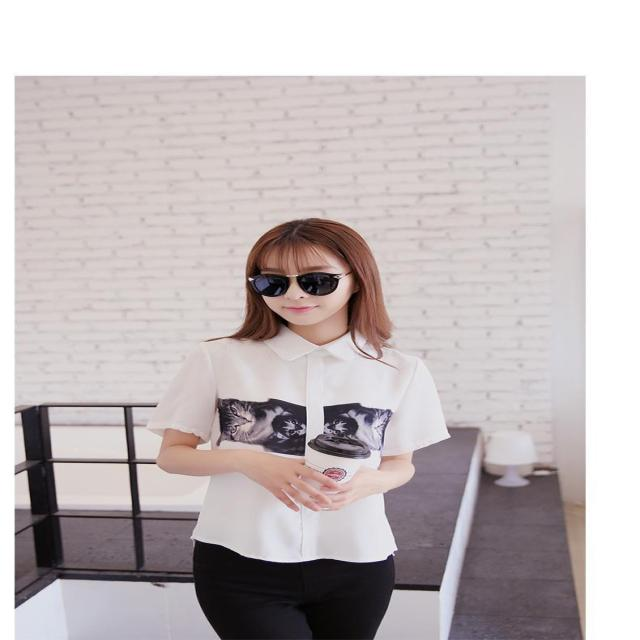short sleeve top: (146, 321, 451, 562)
trousers: (196, 520, 393, 639)
